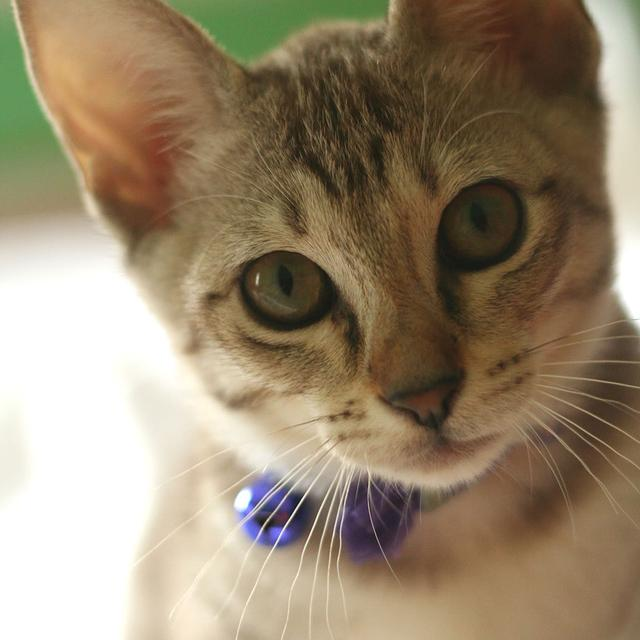animals: (35, 0, 595, 422)
